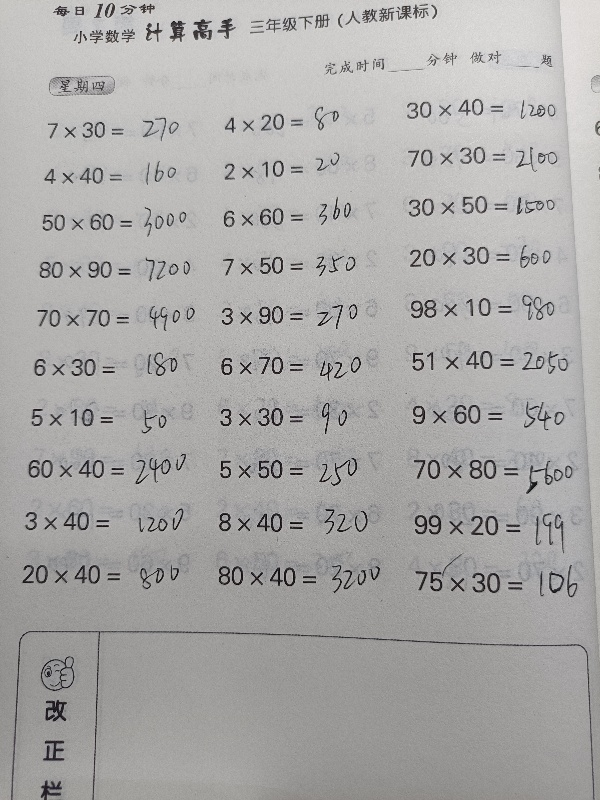equation: (405, 451, 585, 501), (414, 557, 582, 609), (34, 200, 214, 245), (210, 502, 390, 545), (401, 285, 581, 327), (213, 297, 393, 337), (215, 99, 395, 139), (402, 238, 582, 277), (401, 342, 582, 380), (398, 138, 578, 176), (406, 507, 586, 543), (214, 248, 394, 284), (399, 187, 579, 223), (209, 558, 389, 593), (14, 557, 194, 592), (212, 452, 392, 487), (404, 397, 584, 432), (17, 504, 197, 538), (20, 452, 200, 486), (212, 400, 392, 434), (211, 348, 391, 382), (23, 401, 203, 434), (25, 351, 205, 384), (29, 301, 209, 334), (31, 254, 211, 287), (214, 200, 394, 233), (398, 91, 578, 124), (36, 160, 216, 192), (215, 153, 395, 185), (39, 114, 219, 146)
